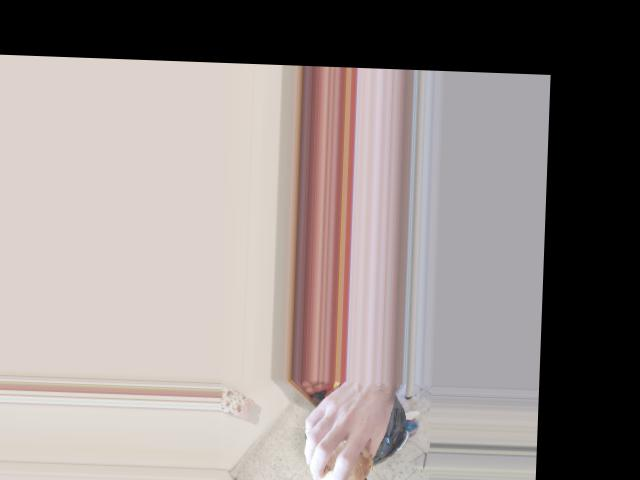onion: (311, 434, 371, 480)
